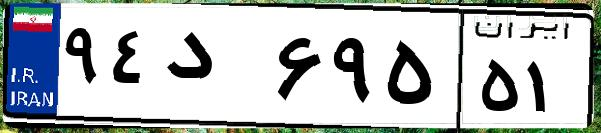1: (525, 38, 570, 115)
4: (110, 28, 158, 98)
5: (385, 28, 445, 110), (475, 38, 525, 113)
6: (270, 28, 330, 110)
9: (330, 28, 385, 110), (57, 26, 110, 100)
د: (158, 20, 270, 120)
